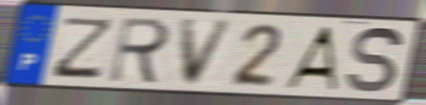2: (230, 22, 284, 88)
A: (280, 25, 340, 93)
R: (105, 15, 174, 86)
S: (344, 25, 406, 96)
V: (178, 18, 238, 89)
Z: (47, 15, 118, 80)
